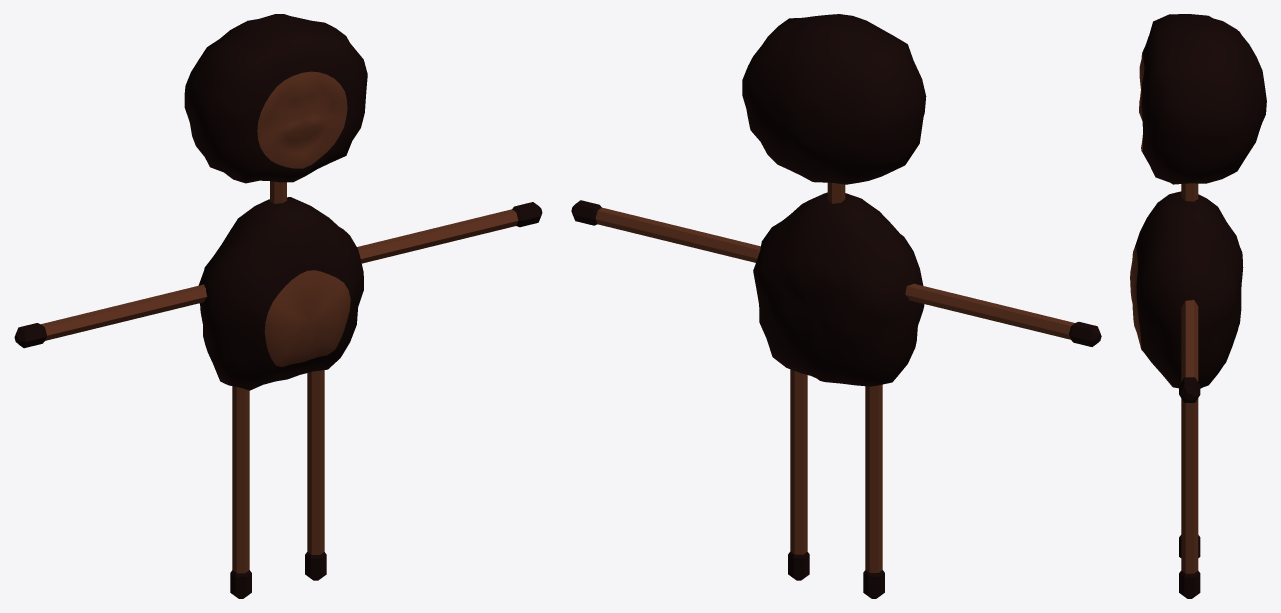
The model's file is chestnut_warrior2.obj.
3 views of the same model, side by side, from view 1: azimuth 30°, elevation 25°; view 2: azimuth 150°, elevation 25°; view 3: azimuth 270°, elevation 25° (orthographic).
Parts seen in each view (by area): view 1: Head_Sphere.011, Body_Sphere.008, LegR_Cylinder.011, LegL_Cylinder.006, HandR_Cylinder.008, HandL_Cylinder.007; view 2: Body_Sphere.008, Head_Sphere.011, LegR_Cylinder.011, LegL_Cylinder.006, HandR_Cylinder.008, HandL_Cylinder.007; view 3: Head_Sphere.011, Body_Sphere.008, LegL_Cylinder.006, HandL_Cylinder.007, Neck_Cylinder.009.
Part boxes in pixels (box(x1,y1,x2,y2)): Head_Sphere.011: box(184, 14, 367, 183); Body_Sphere.008: box(198, 197, 363, 390); LegR_Cylinder.011: box(230, 386, 251, 598); LegL_Cylinder.006: box(305, 370, 326, 580); HandR_Cylinder.008: box(14, 284, 207, 348); HandL_Cylinder.007: box(357, 202, 542, 263); Body_Sphere.008: box(753, 192, 924, 386); Head_Sphere.011: box(742, 14, 926, 184); LegR_Cylinder.011: box(863, 384, 884, 598); LegL_Cylinder.006: box(788, 369, 809, 580); HandR_Cylinder.008: box(905, 283, 1101, 346); HandL_Cylinder.007: box(571, 200, 760, 262); Head_Sphere.011: box(1139, 14, 1266, 184); Body_Sphere.008: box(1130, 191, 1243, 388); LegL_Cylinder.006: box(1179, 398, 1200, 598); HandL_Cylinder.007: box(1179, 300, 1200, 402); Neck_Cylinder.009: box(1181, 183, 1198, 201).
Size of the model in its own units: 7 by 7.21 by 1.61.
